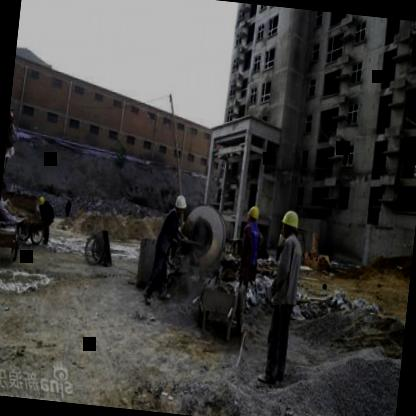helmet: (278, 207, 300, 243), (172, 193, 188, 220), (245, 206, 260, 226)
